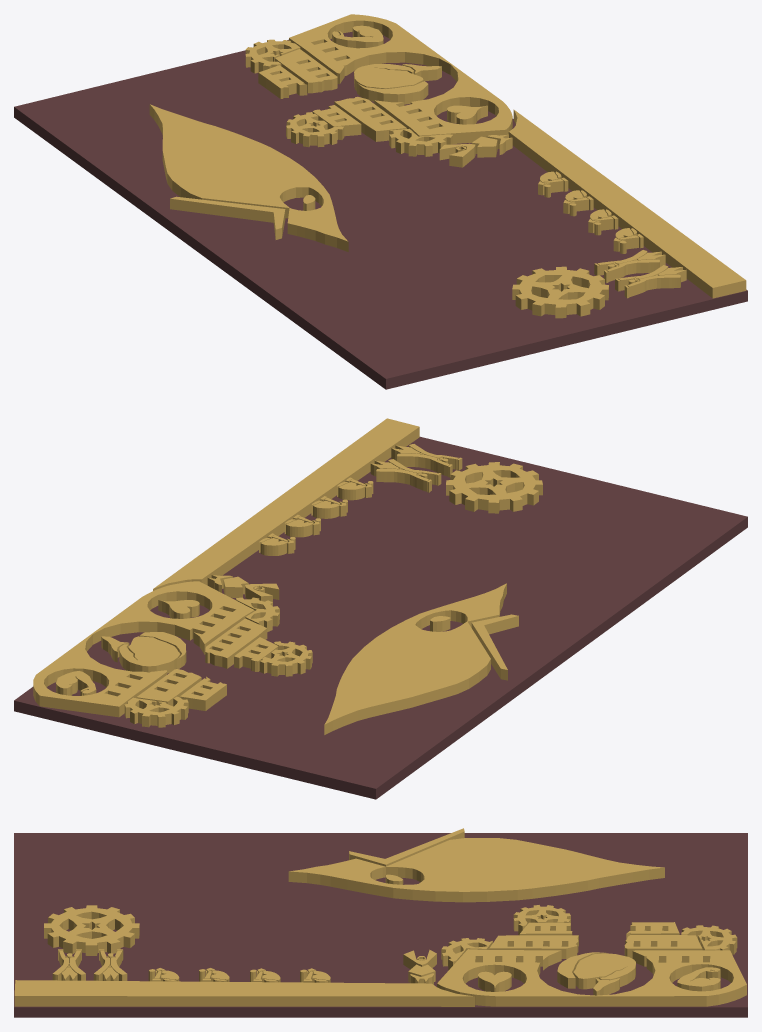
Rendered from fresque_6.fbx.
3 renders of one model, top to bottom at view 1: azimuth 30°, elevation 25°; view 2: azimuth 150°, elevation 25°; view 3: azimuth 270°, elevation 25°, orthographic.
Visible parts, largest first — view 1: Plane.001, Cube.005; view 2: Plane.001, Cube.005; view 3: Plane.001, Cube.005.
Boxes of the visible parts, x1,y1,x2,y2 form: Plane.001: (14,31,747,389); Cube.005: (149,14,746,318); Plane.001: (14,436,747,799); Cube.005: (33,418,542,734); Plane.001: (14,833,747,1017); Cube.005: (14,828,746,1006).
Bounding box in the file's own units: 281 × 15.92 × 500.
